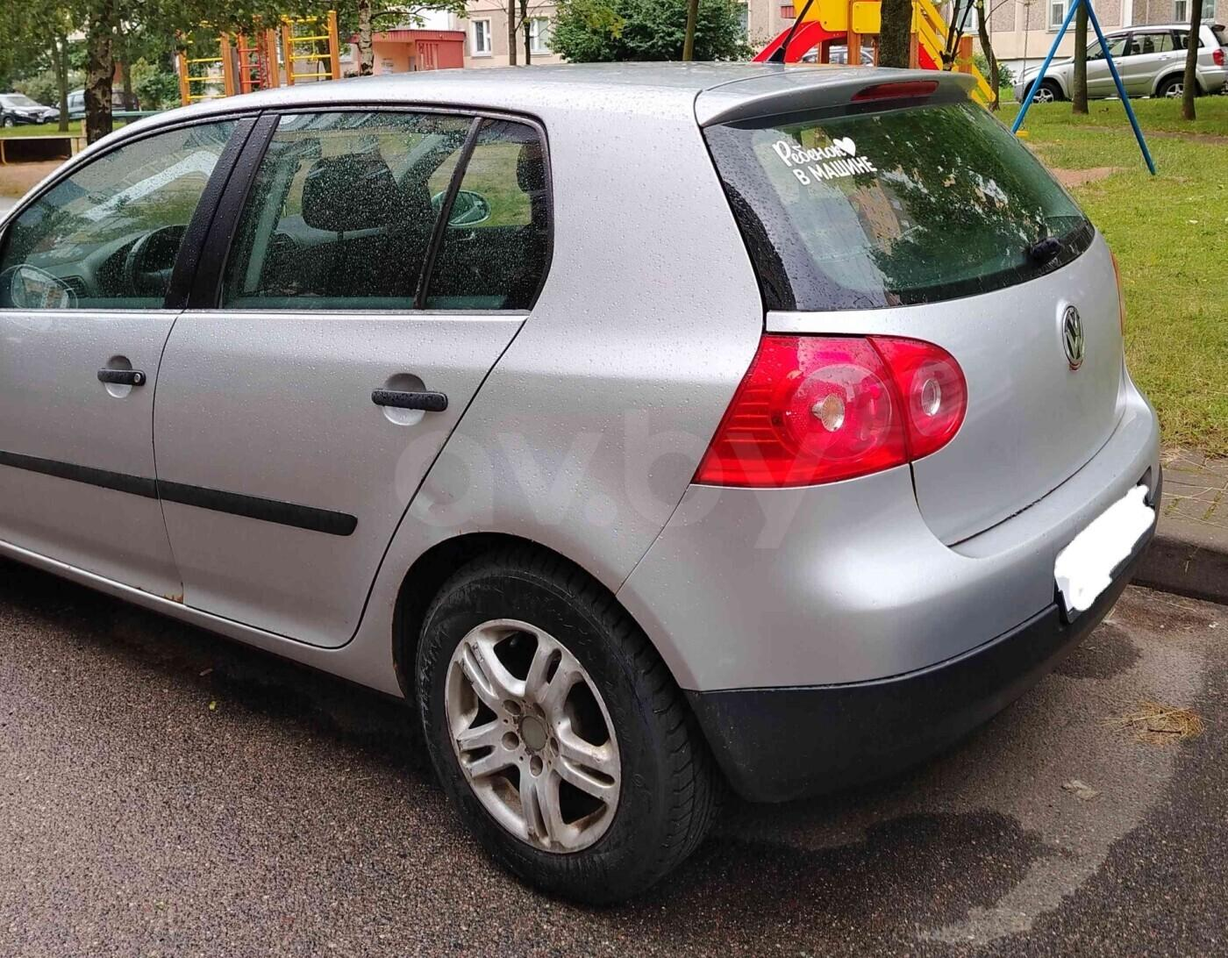Golf_2003-2009: (0, 55, 1168, 855)
